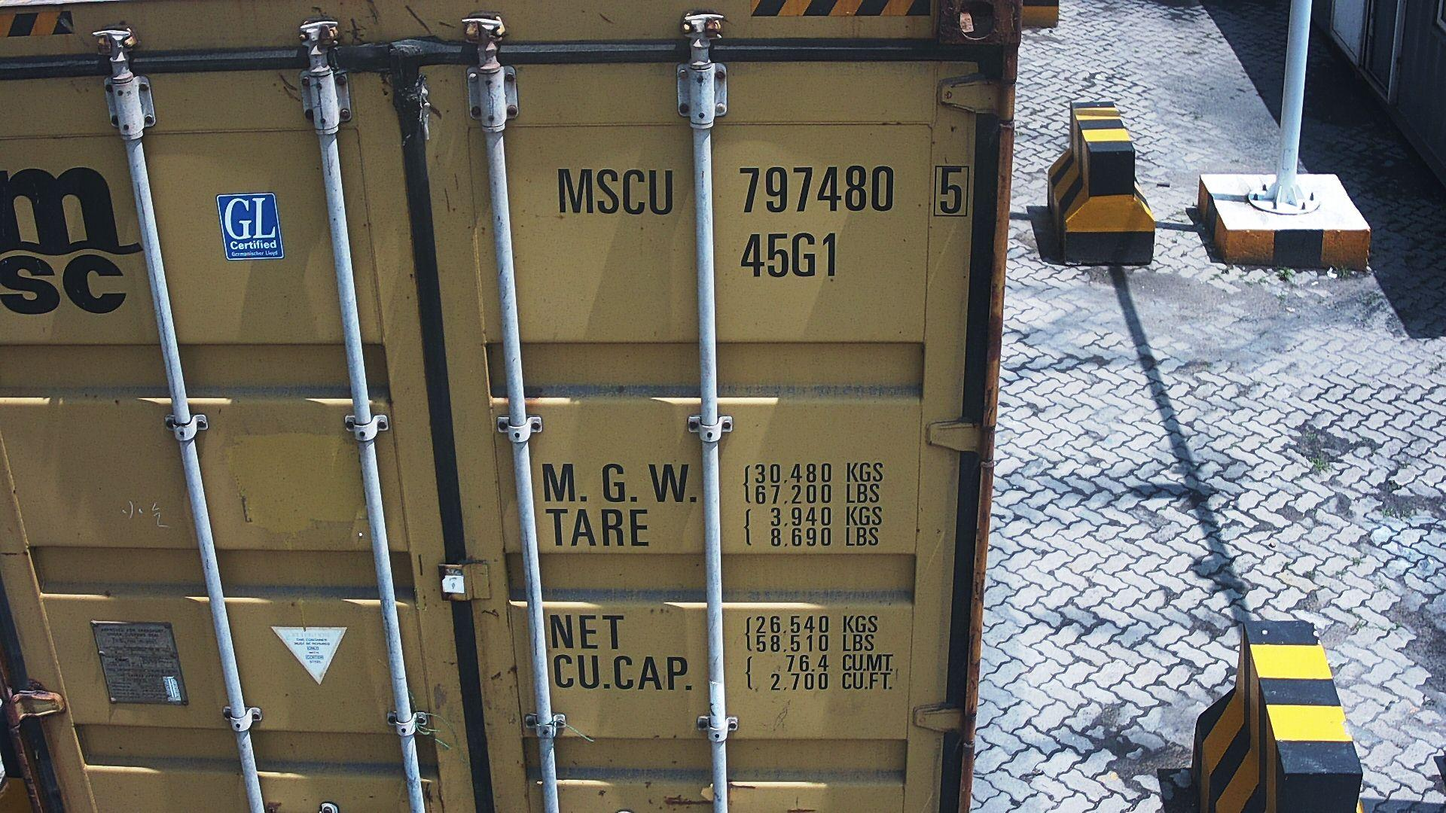container-numbers: (550, 160, 981, 222), (737, 230, 842, 283)
